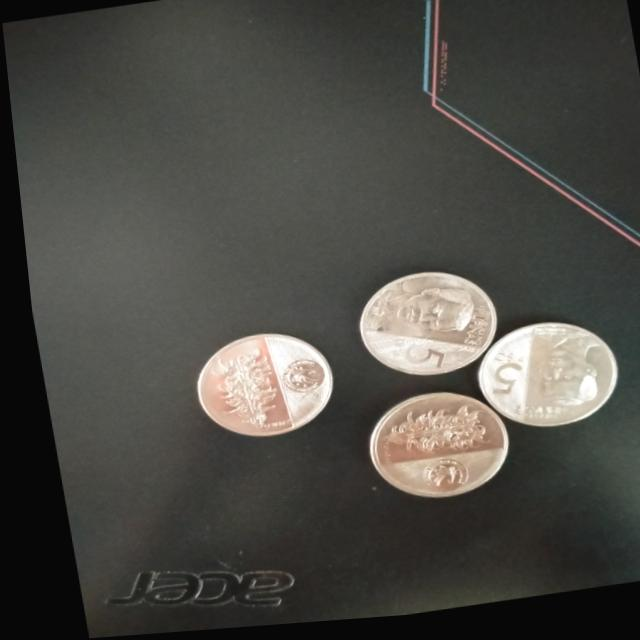5_New_Back: (356, 402, 476, 468)
5_New_Front: (467, 346, 525, 420), (372, 334, 446, 387)
